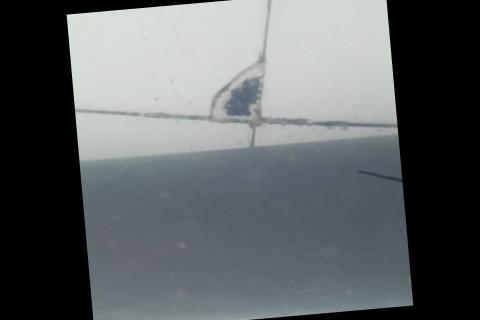keretakan: (356, 164, 403, 189)
